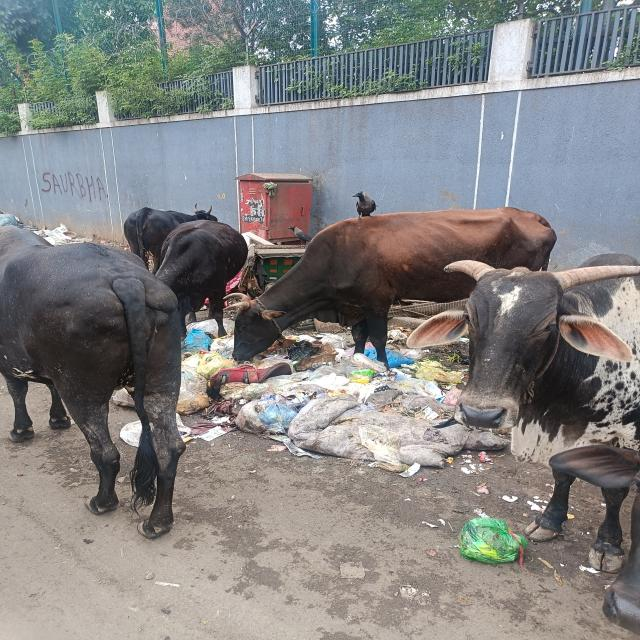garbage: (182, 318, 487, 468)
